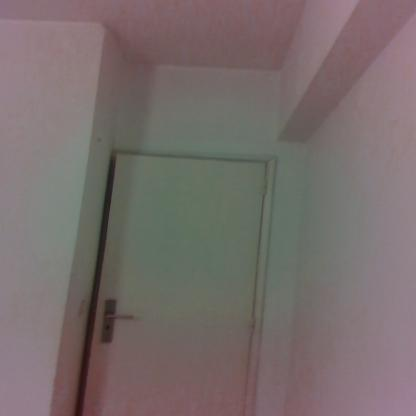door: (101, 152, 252, 416)
hinged: (248, 314, 258, 337), (260, 178, 268, 196)
lever: (103, 313, 136, 322)
